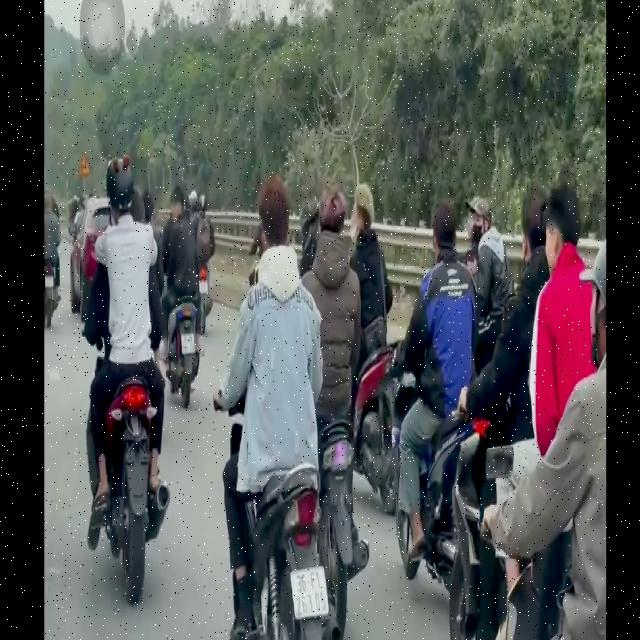helmet: (104, 156, 133, 229)
no_helmet: (260, 174, 298, 293), (433, 187, 460, 273), (354, 173, 378, 265)
